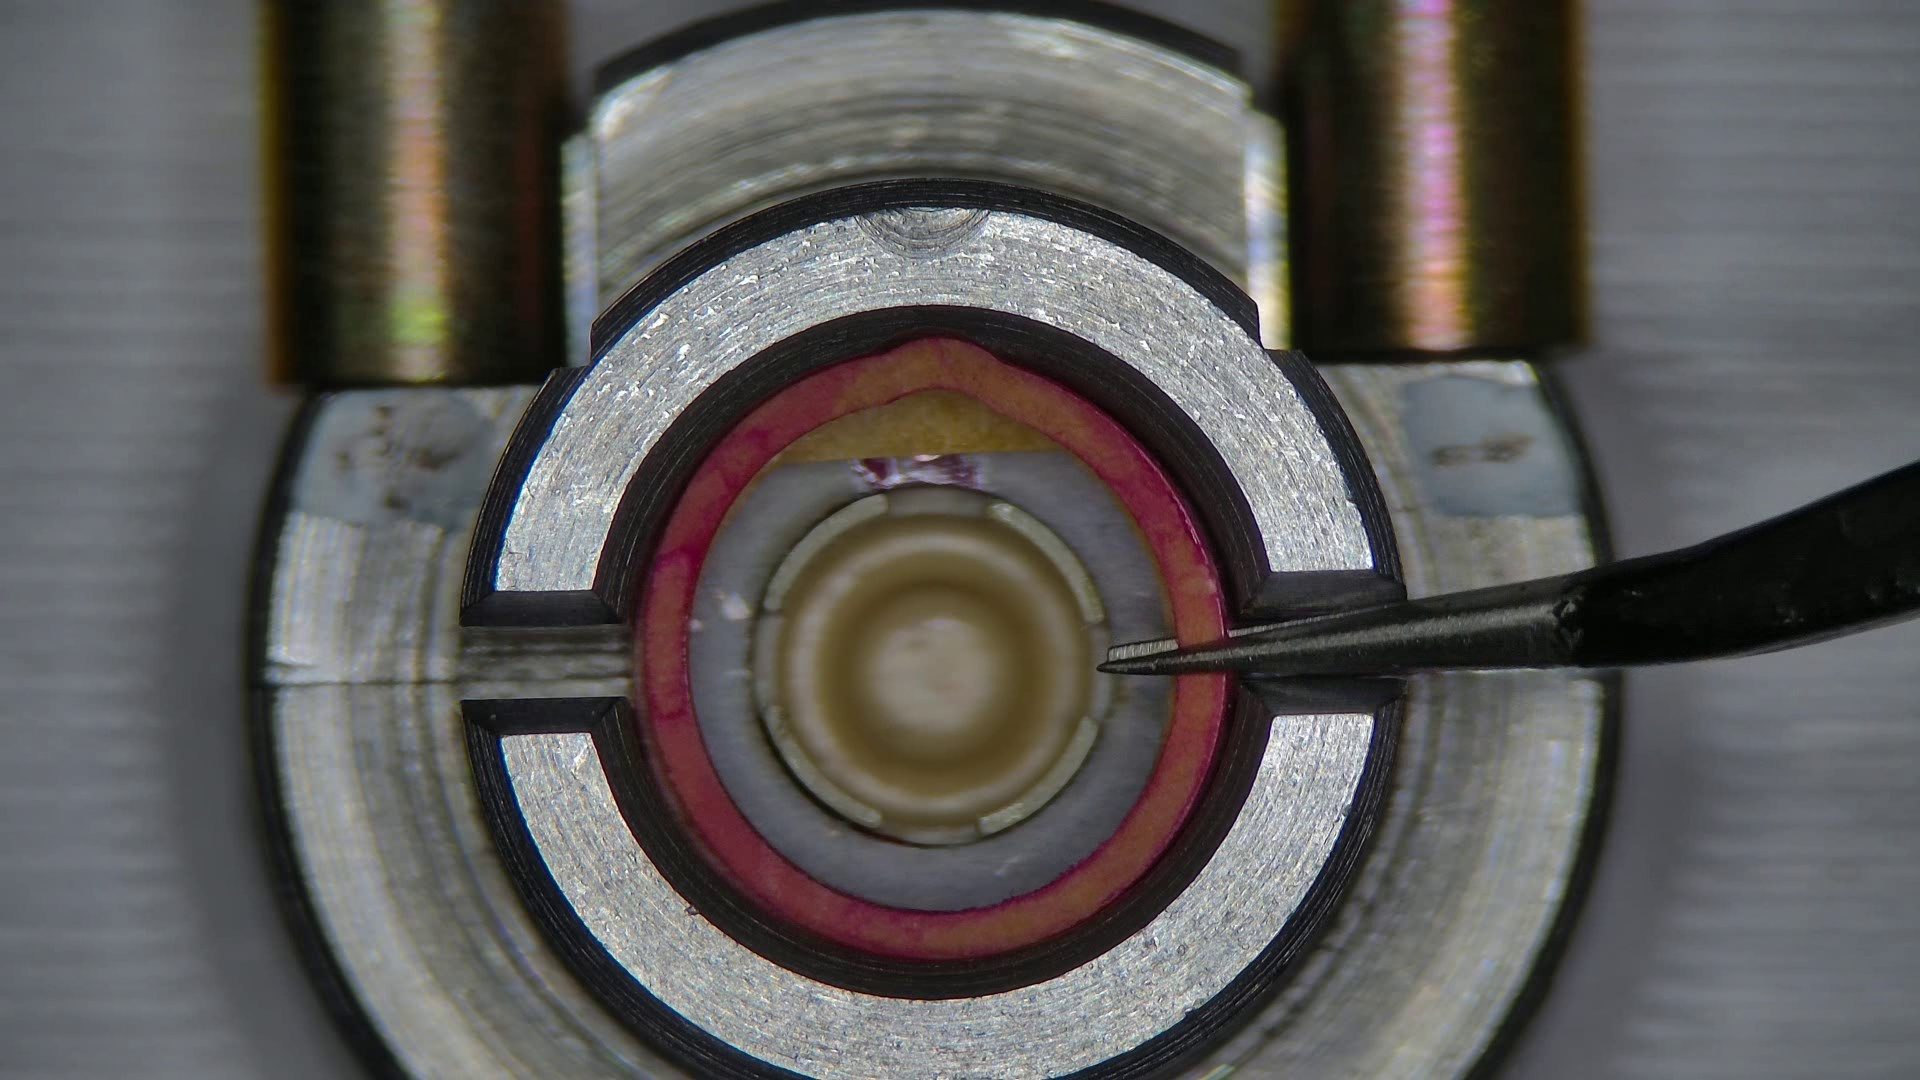GreyOring: (640, 336, 1225, 961)
YellowOring: (694, 456, 1168, 909)
redOring: (775, 392, 1065, 462)
